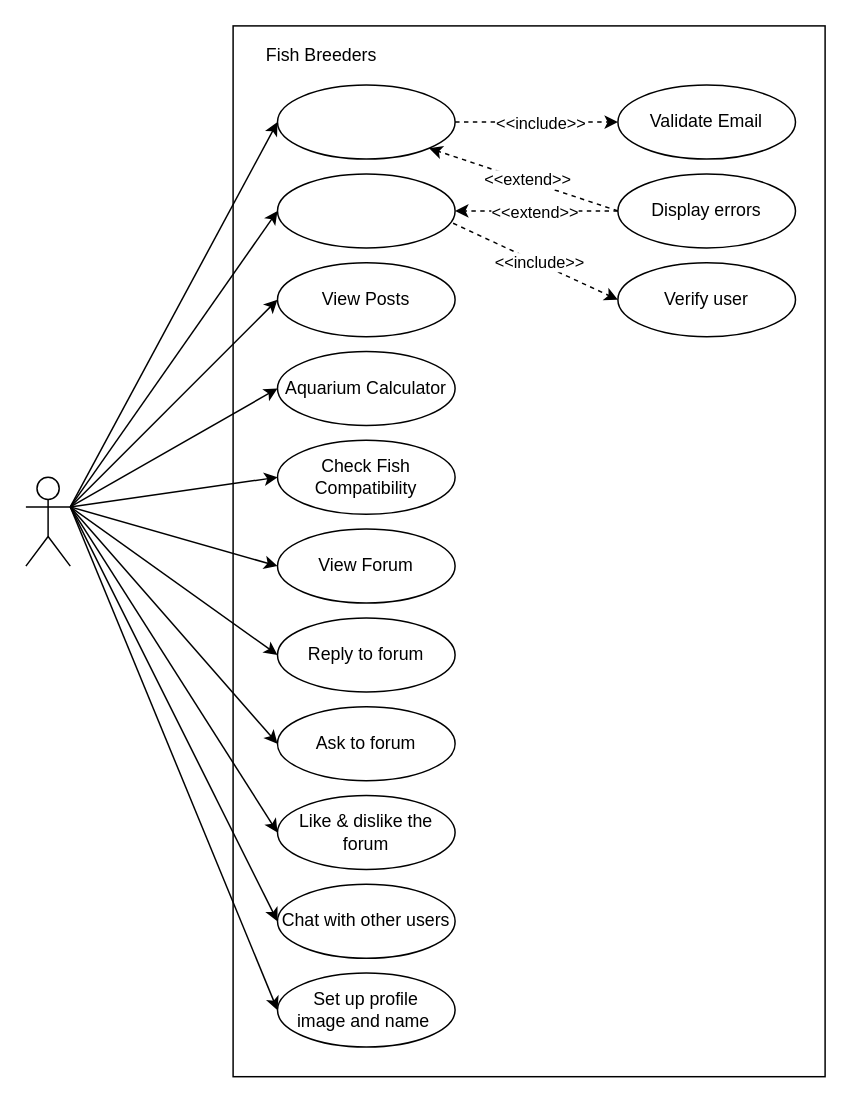
Image size: 851x1103. Some labels were removed from this diagram. The shapes that lost their labels are listed below. From the top down, each one's centre as x and y in pixels, then its label:
At point (365, 121): "Register".
At point (365, 210): "Login".
At point (47, 521): "User".
